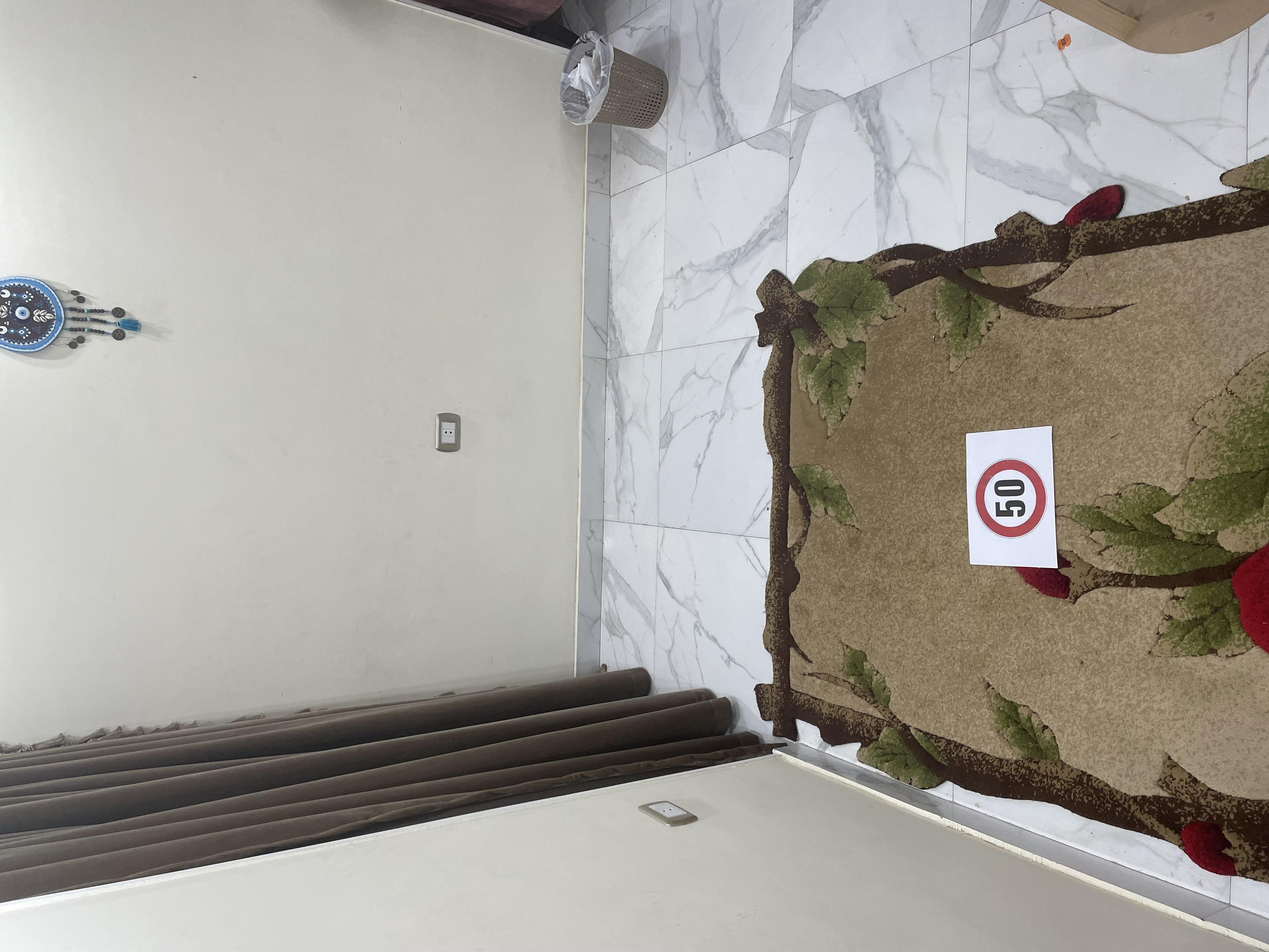50-Speed: (551, 729, 658, 786)
